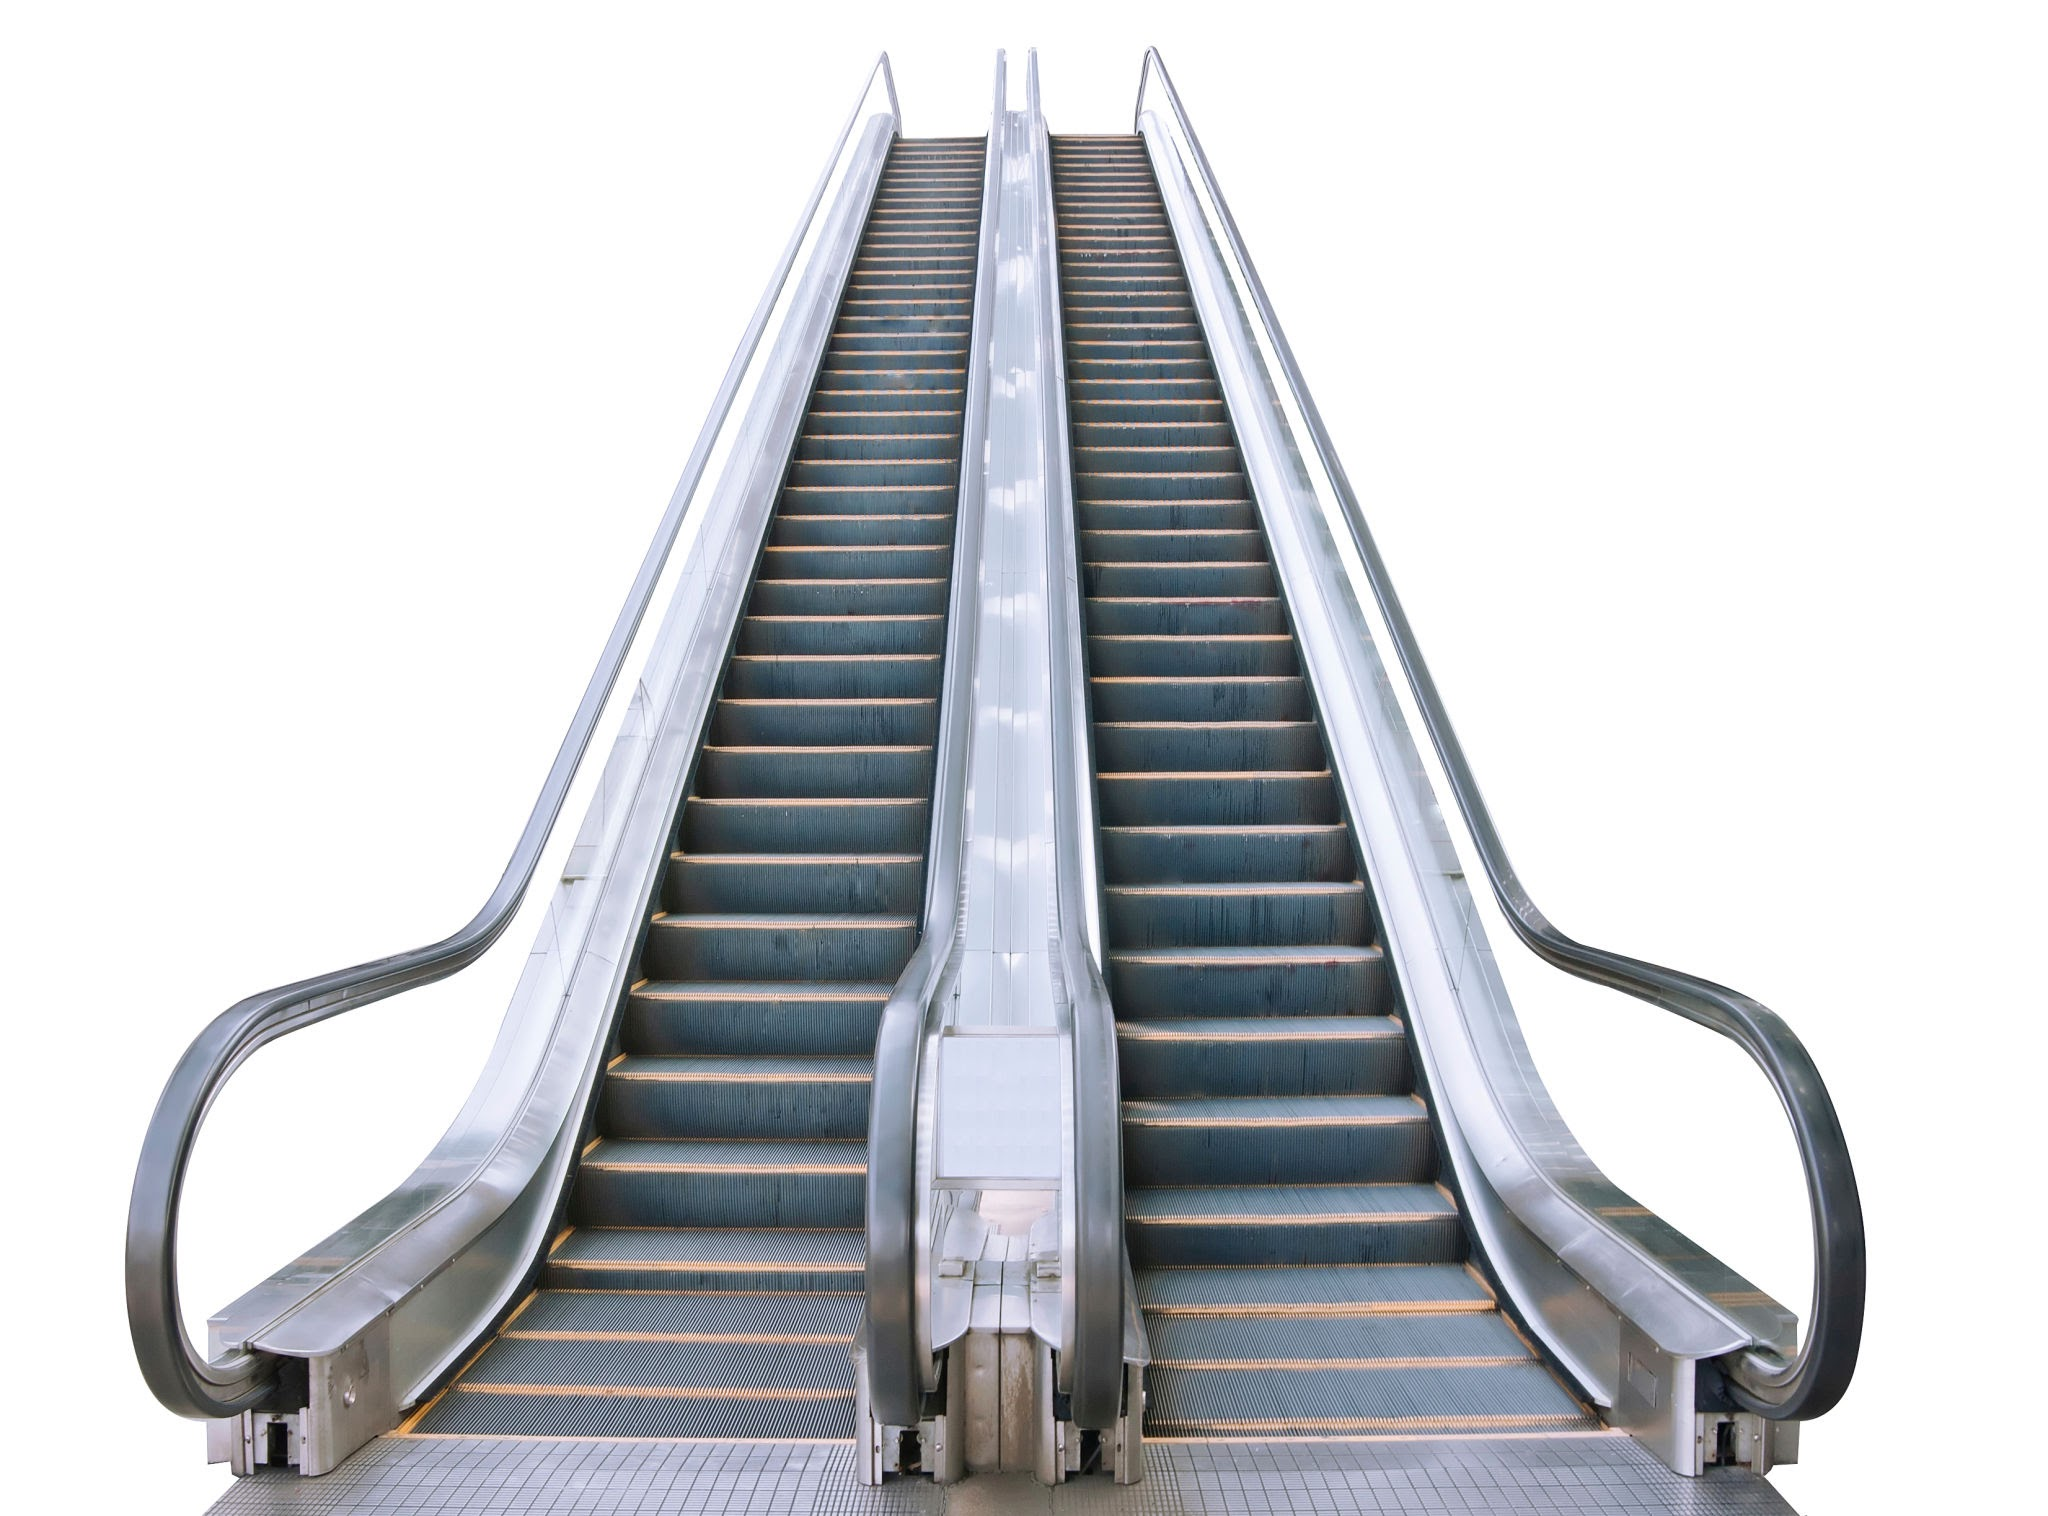escalator: (995, 897, 1878, 1503), (108, 901, 1000, 1494)
